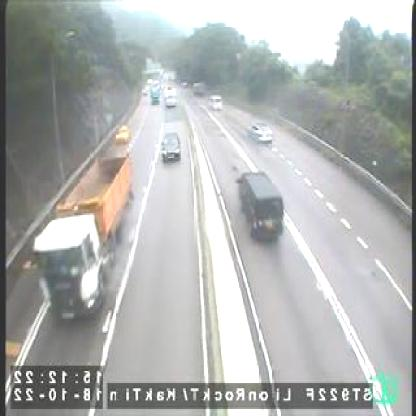Car: (235, 171, 285, 243), (160, 130, 182, 166), (246, 122, 274, 145), (207, 94, 224, 112), (115, 126, 130, 146), (148, 84, 160, 105)
Truck: (31, 150, 135, 324), (162, 86, 178, 109)
